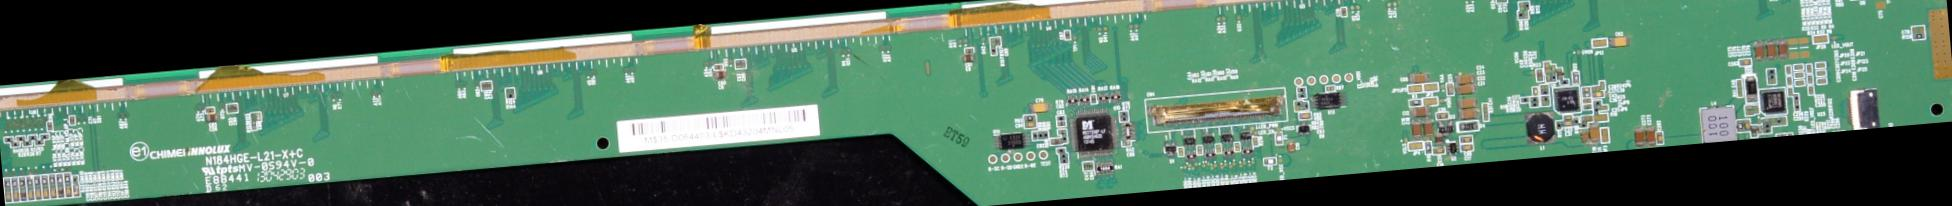Capacitor Jumper: (1764, 37, 1778, 61), (1028, 101, 1051, 114), (1776, 36, 1788, 60), (1408, 120, 1422, 139), (1455, 84, 1478, 95), (1457, 97, 1479, 109), (1753, 40, 1764, 61), (1645, 125, 1656, 146), (1633, 127, 1646, 146), (1410, 107, 1430, 119), (1459, 109, 1479, 120), (1588, 124, 1600, 144), (1610, 35, 1628, 46), (1457, 72, 1475, 84), (1408, 72, 1428, 82), (1423, 119, 1433, 136), (712, 69, 730, 79), (959, 52, 975, 62), (204, 112, 220, 122), (1654, 131, 1664, 146), (473, 80, 481, 97), (1434, 134, 1444, 146), (1581, 129, 1588, 145), (1286, 141, 1296, 152), (1437, 111, 1448, 120), (1535, 69, 1542, 81), (1459, 136, 1471, 144), (1433, 147, 1445, 155), (5, 190, 12, 201), (1556, 67, 1564, 79), (1025, 121, 1036, 129), (57, 185, 63, 197), (49, 186, 55, 199), (1911, 25, 1923, 31), (1739, 59, 1752, 65), (1447, 82, 1453, 95), (1460, 145, 1473, 151), (1089, 94, 1097, 104), (72, 186, 80, 196), (35, 189, 42, 199), (1051, 137, 1061, 145), (65, 185, 71, 196), (42, 187, 49, 199), (20, 190, 26, 200), (27, 189, 34, 199), (12, 191, 19, 201), (1057, 129, 1067, 135), (1301, 112, 1311, 119), (1744, 121, 1750, 131), (1064, 30, 1071, 40), (713, 64, 723, 70), (1591, 91, 1602, 96), (1122, 140, 1130, 146), (1564, 120, 1572, 126), (1083, 162, 1089, 171), (1581, 86, 1588, 92), (1341, 7, 1347, 15), (227, 102, 232, 111), (205, 106, 214, 111), (739, 59, 744, 67), (255, 112, 261, 119), (1057, 121, 1064, 126), (1532, 86, 1537, 94), (1564, 115, 1571, 120), (1088, 162, 1093, 170), (70, 116, 75, 124), (232, 104, 237, 111), (734, 60, 739, 67), (1584, 92, 1590, 97), (486, 82, 490, 89), (481, 81, 484, 89), (47, 122, 51, 130), (1495, 0, 1501, 2), (1501, 0, 1508, 2)
Resistor Jumper: (39, 130, 50, 140), (1022, 112, 1035, 121), (2, 134, 15, 142), (31, 139, 45, 146), (26, 131, 37, 140), (26, 176, 34, 189), (32, 175, 40, 187), (15, 132, 25, 141), (63, 172, 70, 185), (1912, 32, 1925, 39), (4, 179, 11, 189), (41, 174, 47, 185), (56, 174, 62, 185), (11, 177, 17, 189), (10, 141, 20, 147), (49, 175, 54, 186), (22, 140, 31, 146), (20, 177, 25, 187), (1519, 2, 1525, 10), (1518, 11, 1523, 19), (1523, 11, 1527, 19), (73, 176, 78, 184), (505, 87, 513, 92), (1525, 0, 1529, 9), (505, 92, 513, 96)
